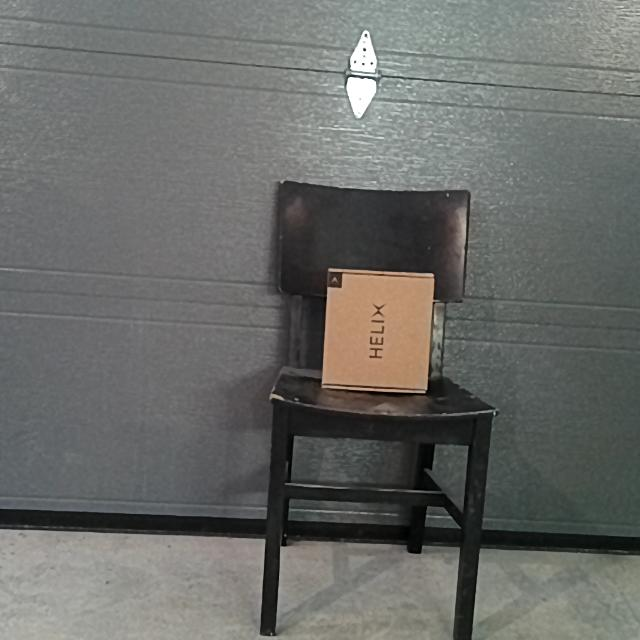box: (327, 267, 432, 394)
